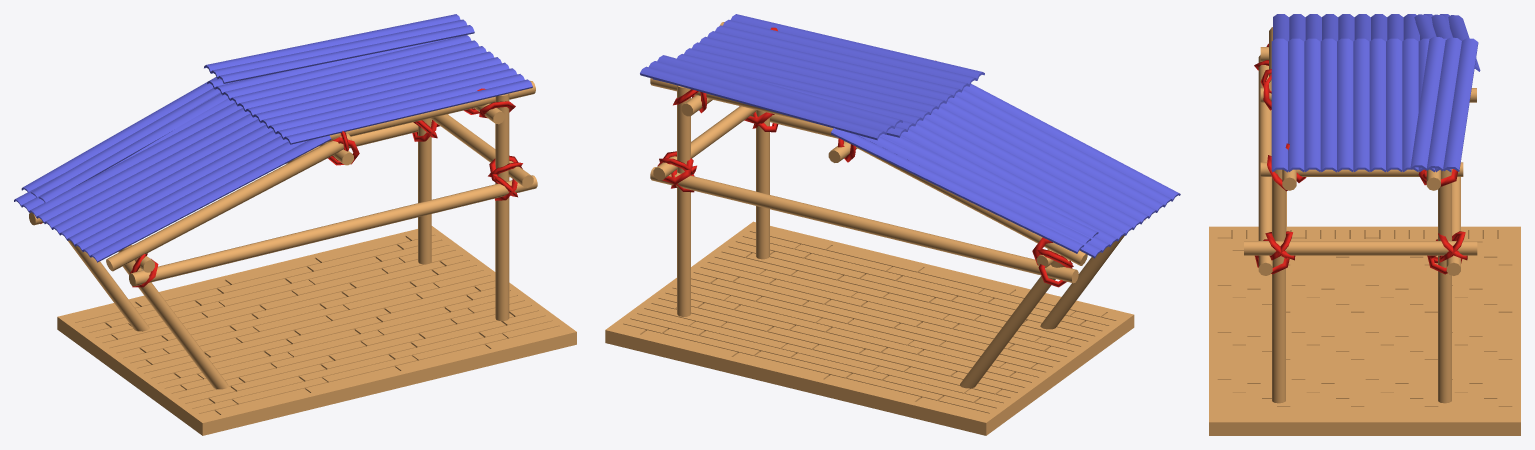
File: Stall04.fbx
3 views of the same model, side by side, from view 1: azimuth 30°, elevation 25°; view 2: azimuth 150°, elevation 25°; view 3: azimuth 270°, elevation 25° (orthographic). The views are drawn at different scales.
Visible parts, largest first — view 1: Cube.029; view 2: Cube.029; view 3: Cube.029.
Boxes of the visible parts, x1,y1,x2,y2 form: Cube.029: [14, 14, 576, 435]; Cube.029: [605, 14, 1180, 435]; Cube.029: [1209, 14, 1520, 435].
Size of the model in its own units: 712 by 379 by 398.
